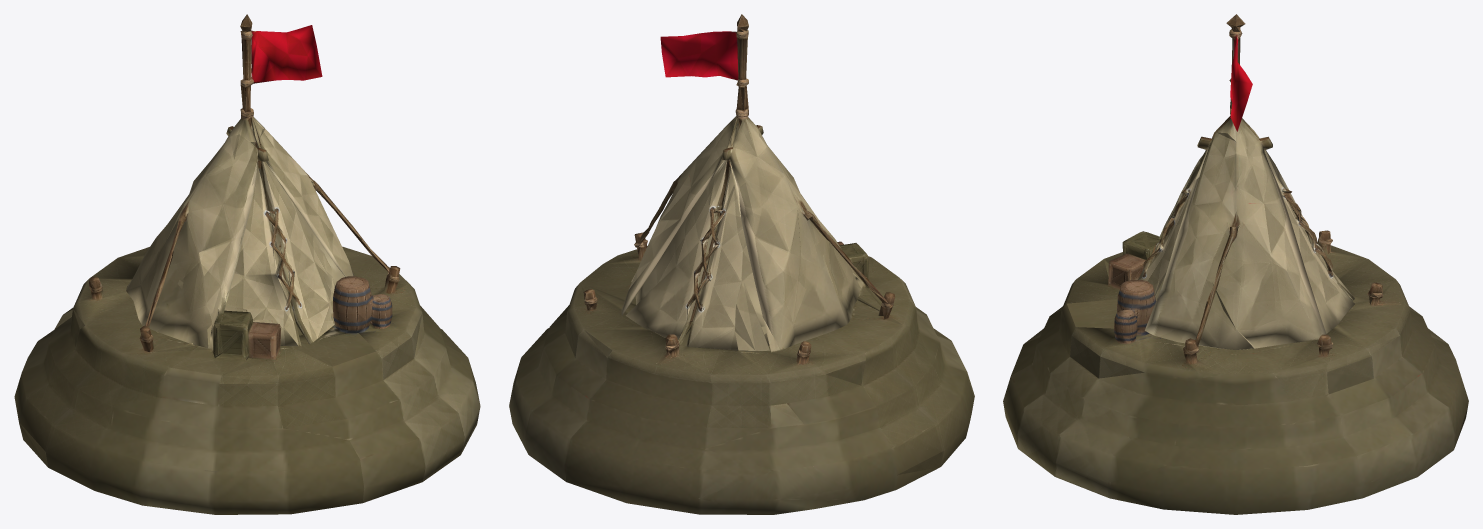
File: ottoman_rook.glb
3 views of the same model, side by side, from view 1: azimuth 30°, elevation 25°; view 2: azimuth 150°, elevation 25°; view 3: azimuth 270°, elevation 25° (orthographic).
Bounding box in the file's own units: 2 × 1.91 × 2.
1 material, 1 textured.
